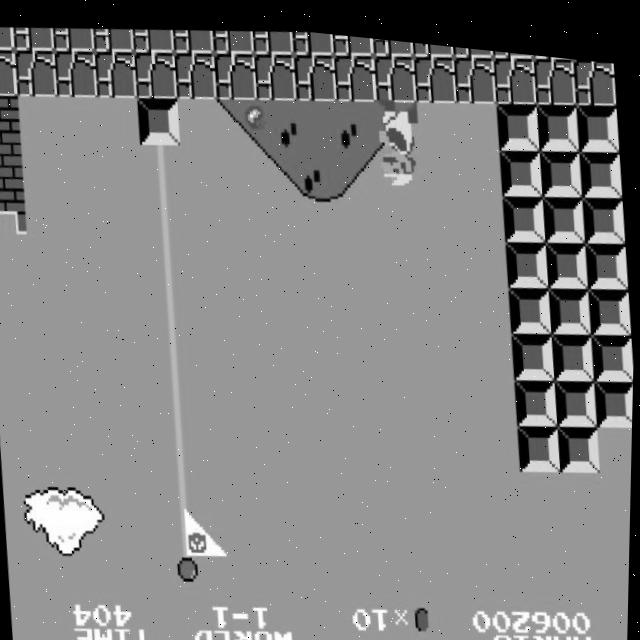17- undestructible_block: (452, 43, 498, 96), (372, 44, 418, 97), (332, 44, 378, 97), (292, 44, 338, 97), (213, 45, 259, 98), (93, 45, 139, 98), (53, 45, 99, 98), (531, 43, 577, 95), (412, 44, 458, 96), (252, 45, 298, 97), (13, 46, 59, 98), (492, 43, 537, 96), (173, 45, 218, 98), (133, 45, 178, 98), (572, 47, 617, 95), (211, 22, 255, 52), (251, 22, 294, 52), (92, 23, 135, 53), (52, 23, 95, 53), (171, 23, 215, 52), (131, 23, 175, 52), (12, 24, 55, 53), (291, 24, 334, 51), (331, 27, 374, 51), (0, 48, 19, 99), (371, 30, 414, 51), (411, 34, 454, 50), (451, 37, 494, 50), (491, 40, 534, 50), (0, 27, 16, 53)
4- fire_mario: (375, 87, 428, 188)
5- fireball: (245, 98, 267, 128)
7- goal_pole: (168, 550, 214, 603), (155, 366, 201, 419), (152, 320, 198, 373), (139, 137, 185, 190), (161, 458, 207, 510), (158, 413, 204, 465), (145, 229, 191, 281), (142, 183, 188, 235), (165, 504, 210, 557), (149, 276, 194, 327)
9- hard_block: (551, 318, 597, 371), (544, 226, 590, 279), (514, 364, 560, 417), (498, 135, 544, 188), (495, 89, 541, 142), (136, 91, 182, 144), (554, 364, 600, 416), (548, 273, 594, 325), (541, 181, 587, 233), (538, 135, 584, 187), (535, 89, 581, 141), (511, 319, 557, 371), (504, 227, 550, 279), (575, 89, 620, 142), (557, 411, 603, 462), (517, 411, 563, 462), (501, 182, 547, 233), (588, 273, 633, 325), (585, 227, 630, 279), (508, 273, 553, 325), (582, 182, 627, 233), (579, 135, 623, 187), (591, 319, 635, 370), (595, 364, 635, 416)
